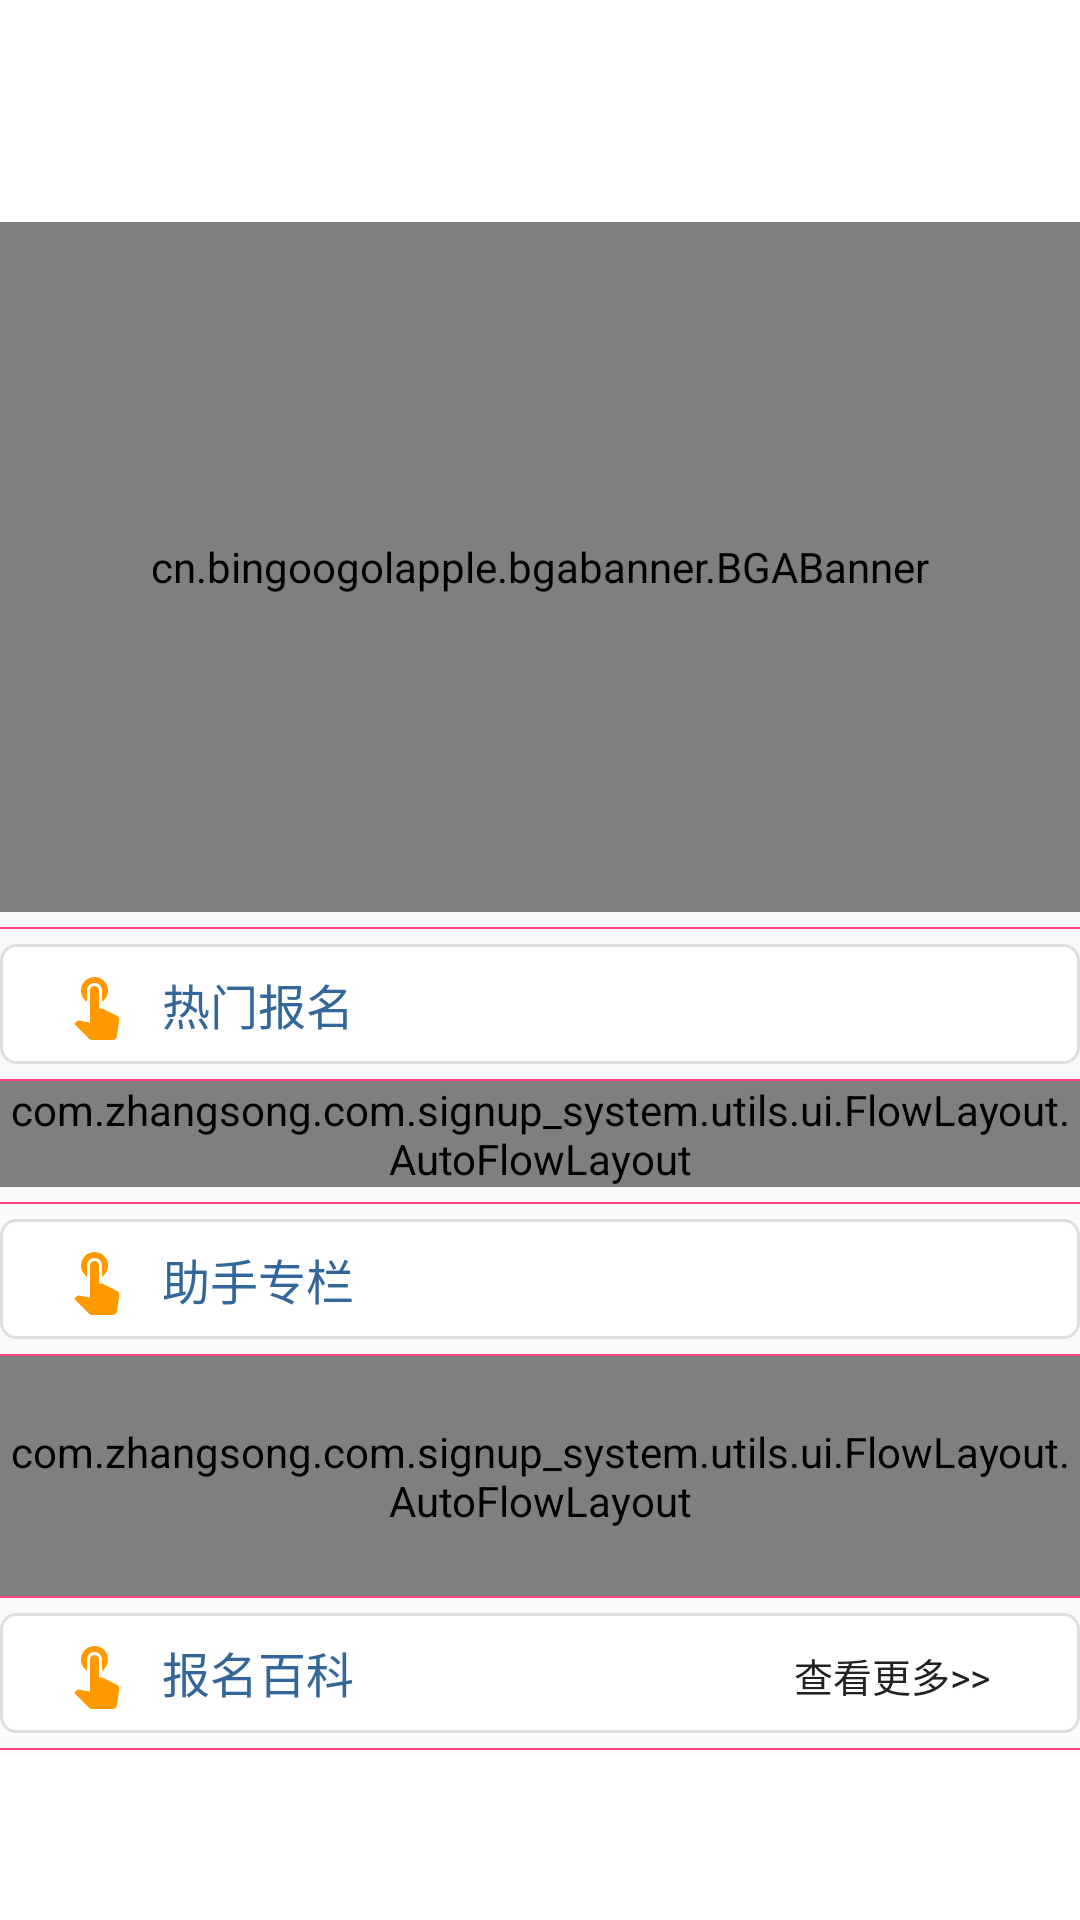

Icons on this 1080 × 1920 Android screen, each with its box as (x1, y1, x2, y2):
touch app: (74, 977, 120, 1040), (74, 1252, 120, 1315), (74, 1646, 120, 1709)
